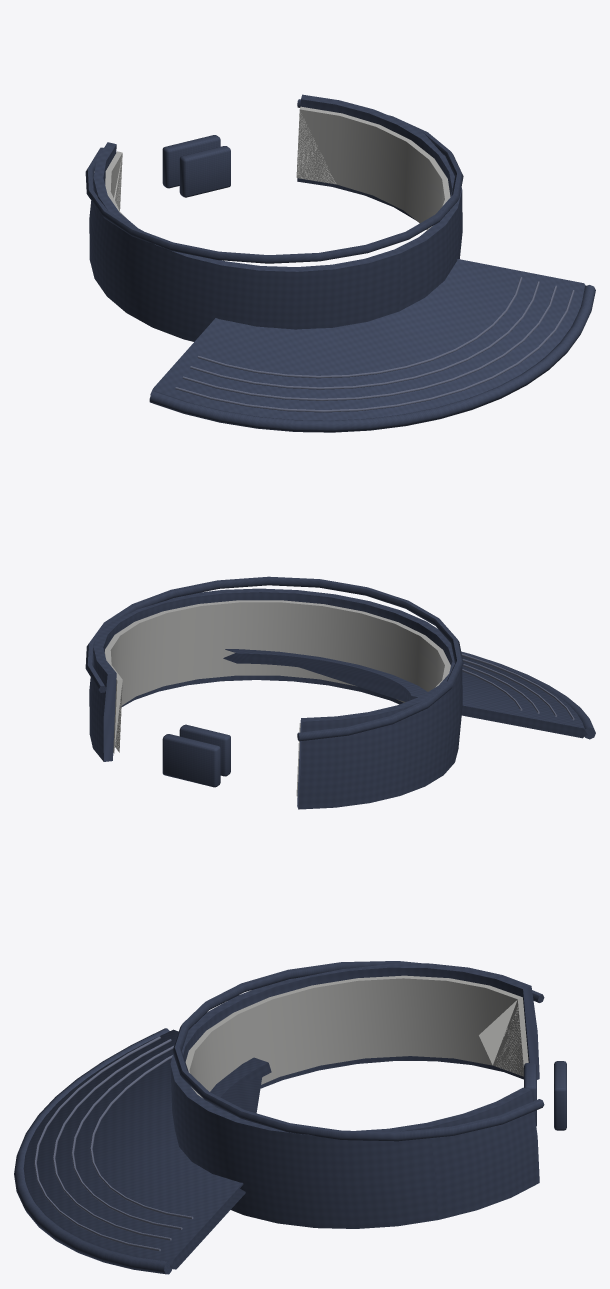
Rendered from pf_hat_visor.glb.
The picture shows the model from 3 angles, top to bottom: view 1: azimuth 30°, elevation 25°; view 2: azimuth 150°, elevation 25°; view 3: azimuth 270°, elevation 25°; orthographic projection. The views are drawn at different scales.
Visible parts, largest first — view 1: pf_hat_visor_body; view 2: pf_hat_visor_body; view 3: pf_hat_visor_body.
Part boxes in pixels (x1,y1,x2,y2): pf_hat_visor_body: (85,94,595,432); pf_hat_visor_body: (85,576,595,809); pf_hat_visor_body: (14,961,566,1274).
Size of the model in its own units: 0.2626 by 0.0973 by 0.2709.
4 materials, 2 textured.
